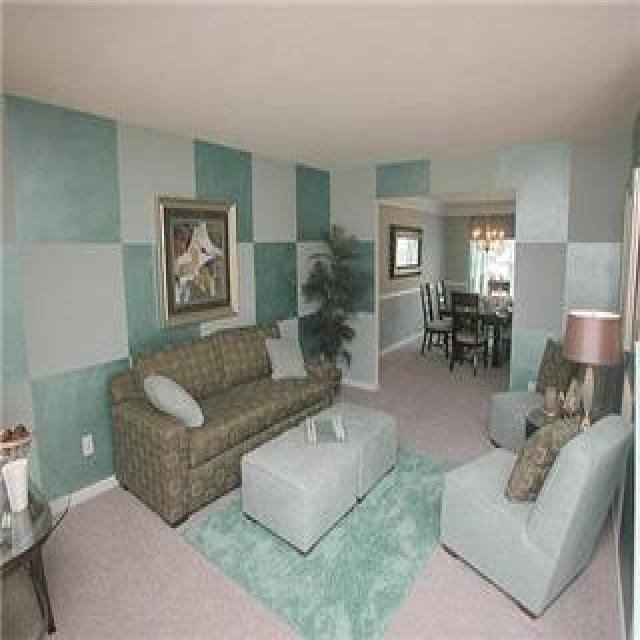chair: (433, 412, 627, 604), (485, 340, 585, 449), (447, 289, 483, 369), (417, 278, 455, 353)
pottedplant: (299, 228, 365, 396)
sofa: (101, 324, 343, 524)
